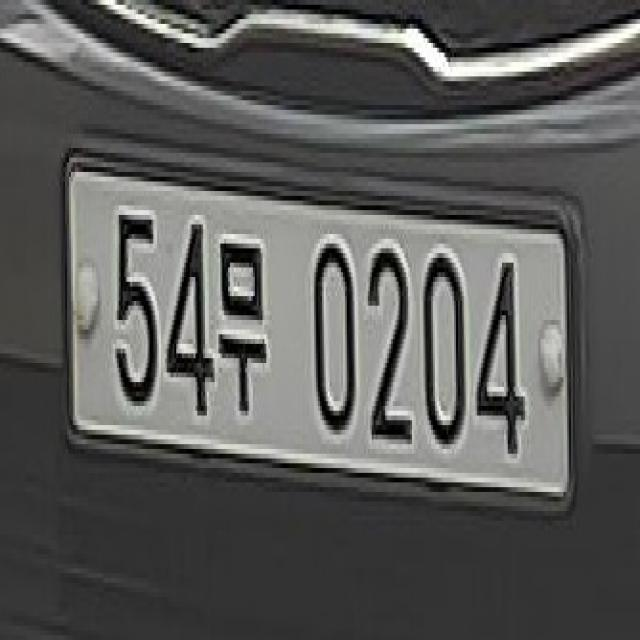0: (418, 225, 477, 478), (312, 196, 358, 454)
2: (364, 229, 420, 459)
4: (165, 172, 218, 444), (473, 239, 529, 463)
5: (109, 134, 161, 449)
license_plate: (39, 167, 582, 511)
mu: (211, 210, 274, 425)
